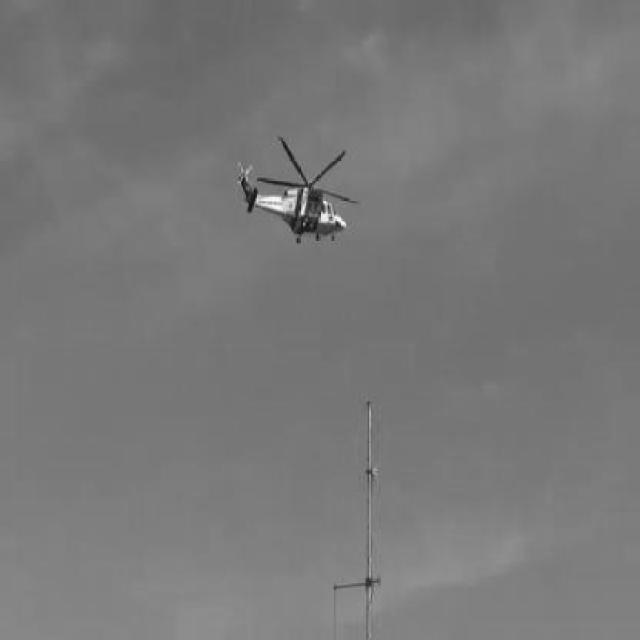helikopter: (235, 136, 356, 242)
